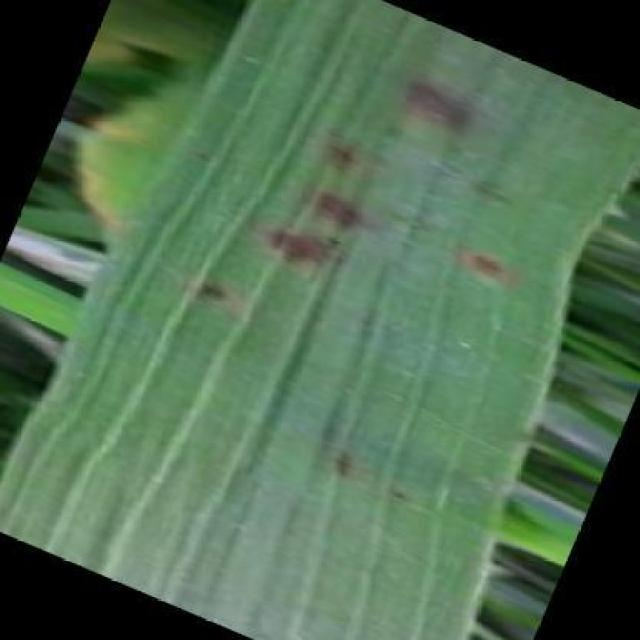Leaf_Blast: (382, 54, 509, 152), (245, 204, 362, 282), (302, 171, 396, 243), (451, 233, 526, 295), (309, 115, 376, 179), (180, 261, 248, 317), (461, 164, 524, 218), (322, 438, 376, 491), (380, 474, 426, 514), (184, 136, 224, 172), (379, 307, 419, 342), (388, 352, 427, 386), (343, 552, 379, 582), (382, 382, 416, 412)
